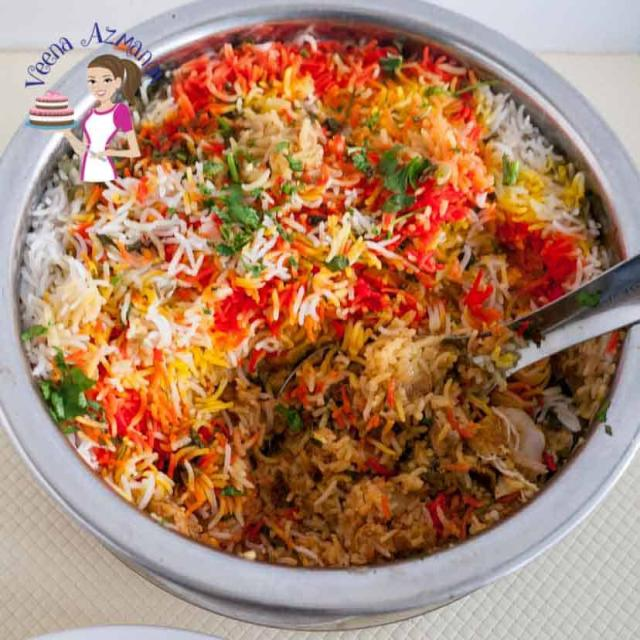chicken biryani: (132, 67, 577, 551)
